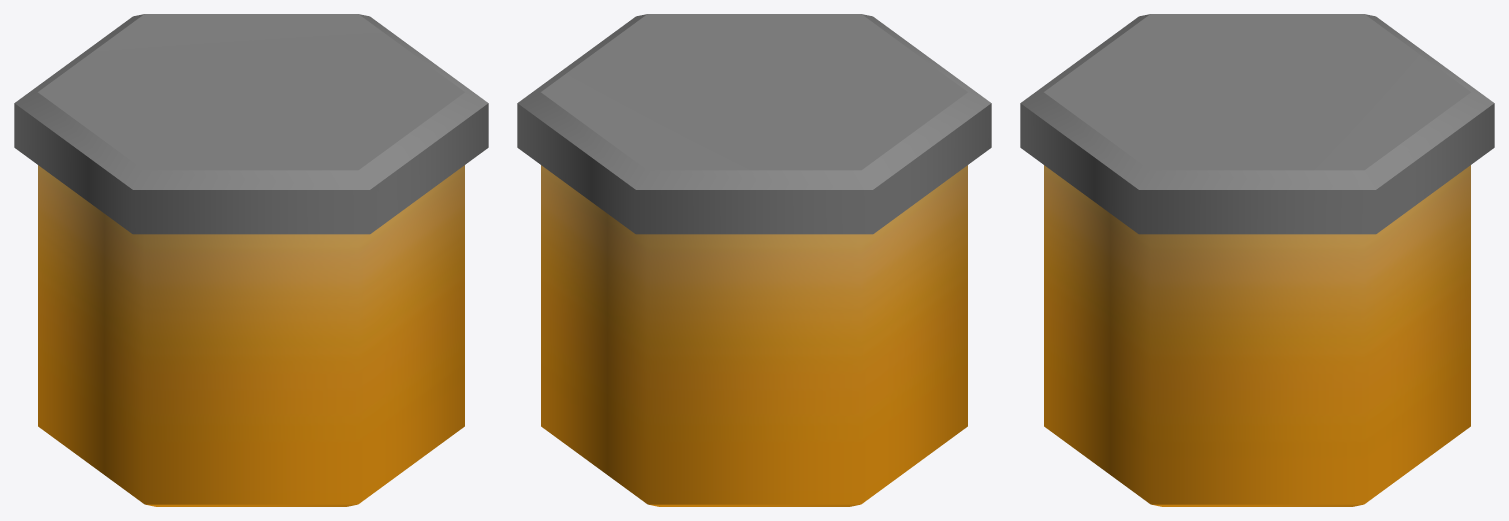
File: Jar_2_G.fbx
The picture shows the model from 3 angles, left to right: view 1: azimuth 30°, elevation 25°; view 2: azimuth 150°, elevation 25°; view 3: azimuth 270°, elevation 25°; orthographic projection.
Visible parts, largest first — view 1: Jar_2_G; view 2: Jar_2_G; view 3: Jar_2_G.
Boxes of the visible parts, <box> form: Jar_2_G: <box>14,14,488,506</box>; Jar_2_G: <box>517,14,991,506</box>; Jar_2_G: <box>1020,14,1494,506</box>.
Size of the model in its own units: 17.99 by 16.69 by 20.77.
